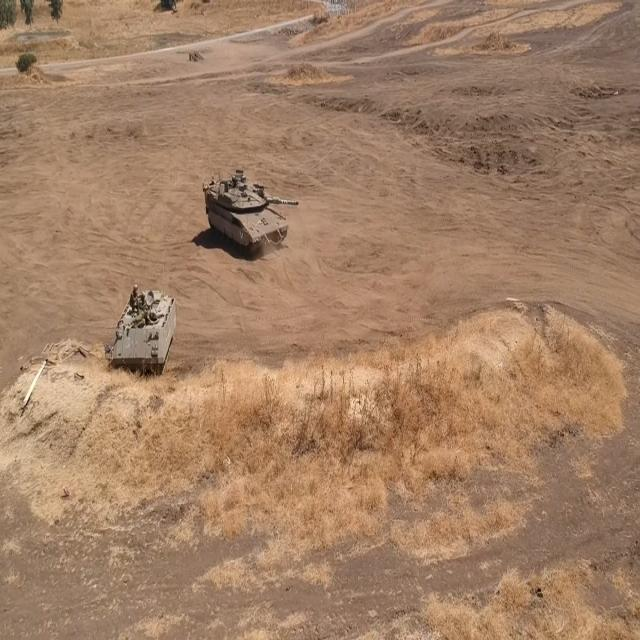tank: (200, 165, 310, 257)
